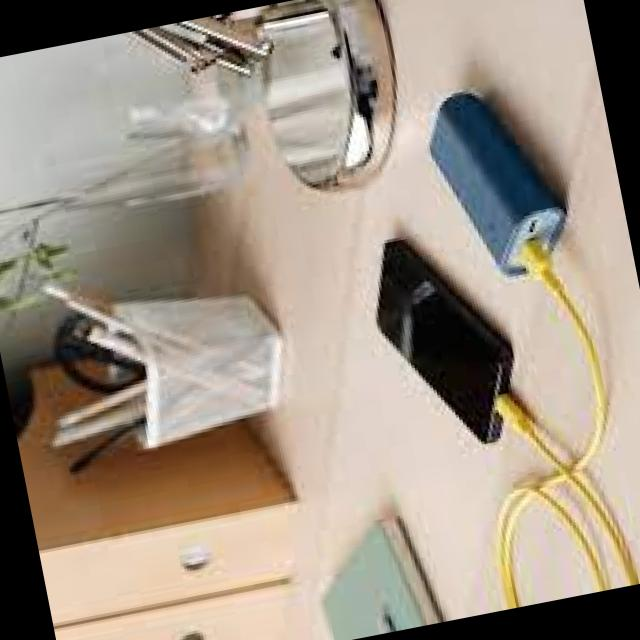portable-charger: (410, 60, 594, 298)
